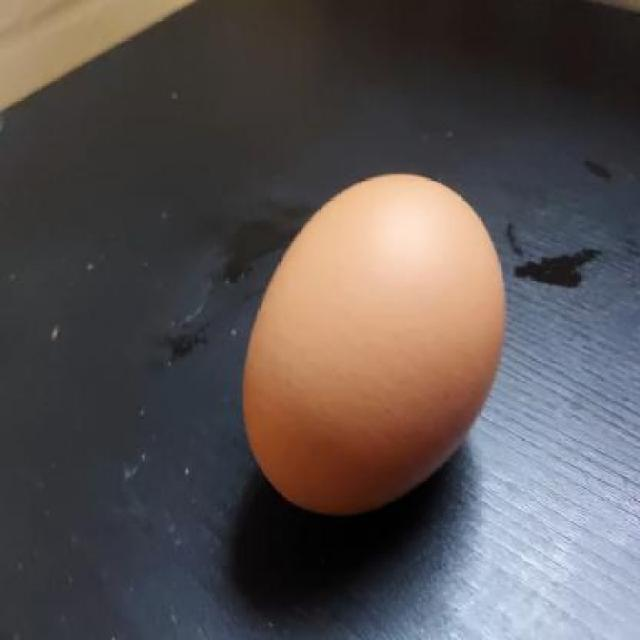biodegradable: (237, 171, 506, 517)
